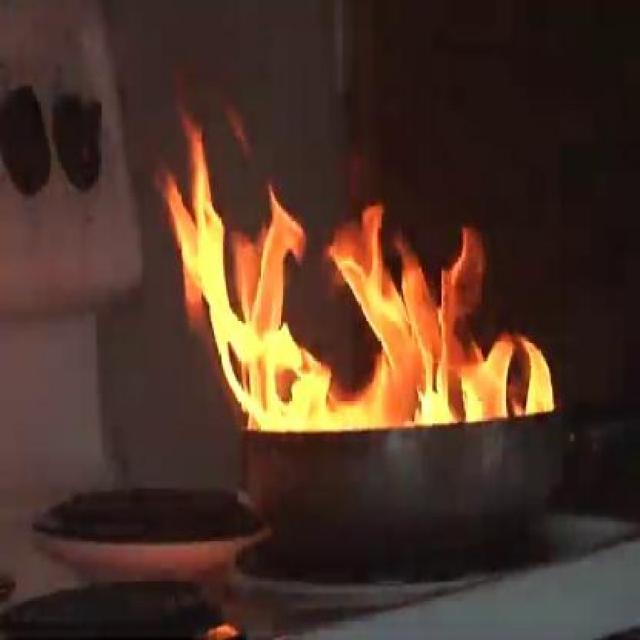fire: (144, 101, 572, 424)
